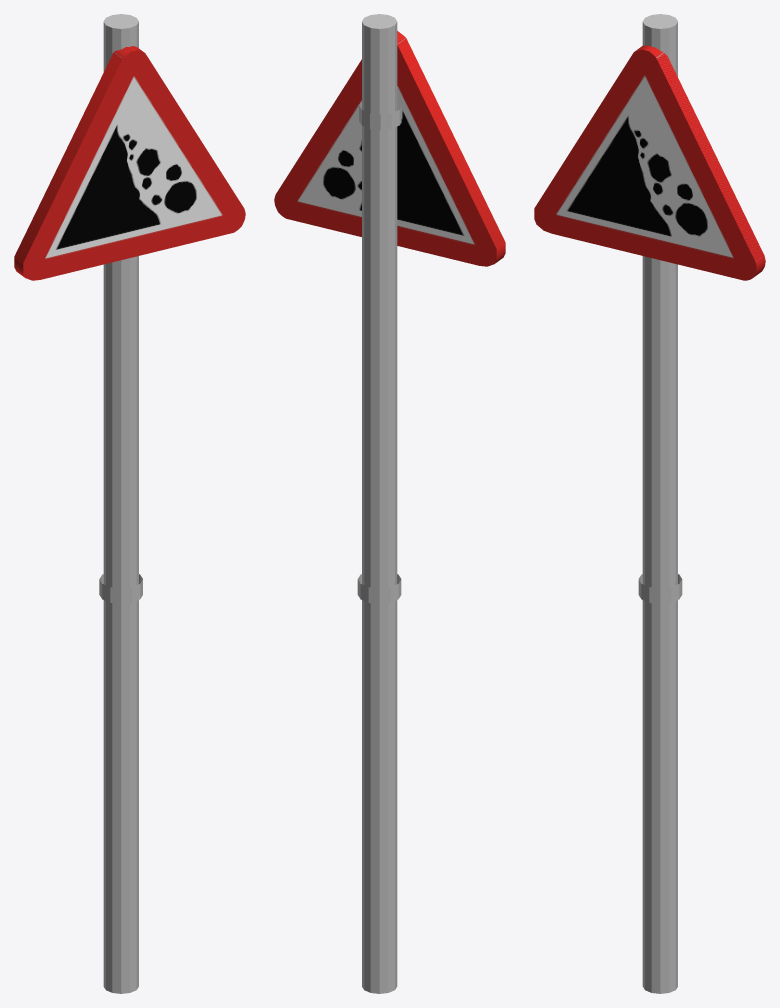
Rendered from SM_warning_sign_05.fbx.
The picture shows the model from 3 angles, left to right: view 1: azimuth 30°, elevation 25°; view 2: azimuth 150°, elevation 25°; view 3: azimuth 330°, elevation 25°; orthographic projection.
Visible parts, largest first — view 1: warning_sign_05; view 2: warning_sign_05; view 3: warning_sign_05.
Boxes of the visible parts, bbox=[...] form: warning_sign_05: bbox=[14, 14, 245, 993]; warning_sign_05: bbox=[274, 14, 505, 993]; warning_sign_05: bbox=[534, 14, 765, 993].
Bounding box in the file's own units: 84.99 × 352 × 16.52.
